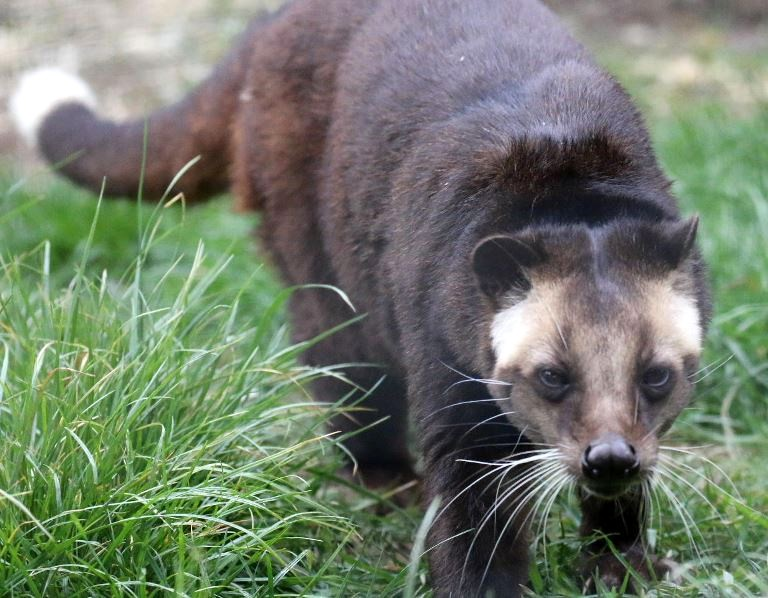Civet: (207, 1, 715, 585)
